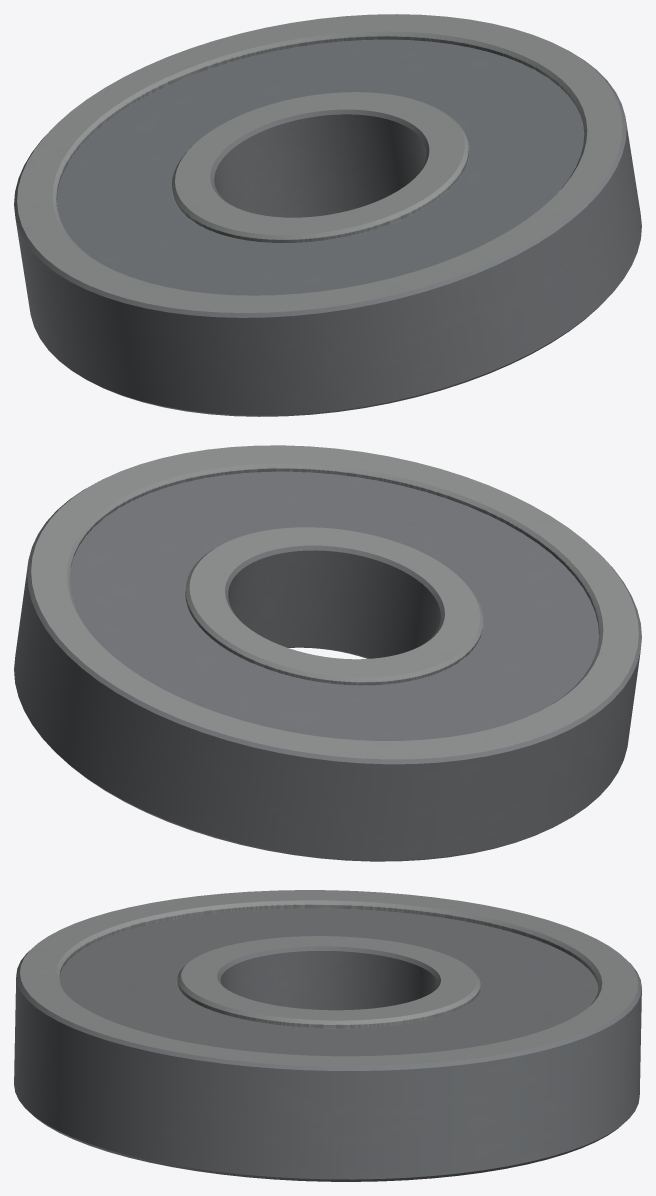
File: UNIT07_FK_BearingNew.fbx
3 renders of one model, top to bottom at view 1: azimuth 30°, elevation 25°; view 2: azimuth 150°, elevation 25°; view 3: azimuth 270°, elevation 25°, orthographic.
Visible parts, largest first — view 1: UNIT07_FK_BearingTop_L_New; view 2: UNIT07_FK_BearingTop_L_New; view 3: UNIT07_FK_BearingTop_L_New.
Boxes of the visible parts, <box> form: UNIT07_FK_BearingTop_L_New: <box>14,14,641,416</box>; UNIT07_FK_BearingTop_L_New: <box>14,445,641,861</box>; UNIT07_FK_BearingTop_L_New: <box>14,890,641,1181</box>.
Size of the model in its own units: 0.0528 by 0.0175 by 0.0522.
